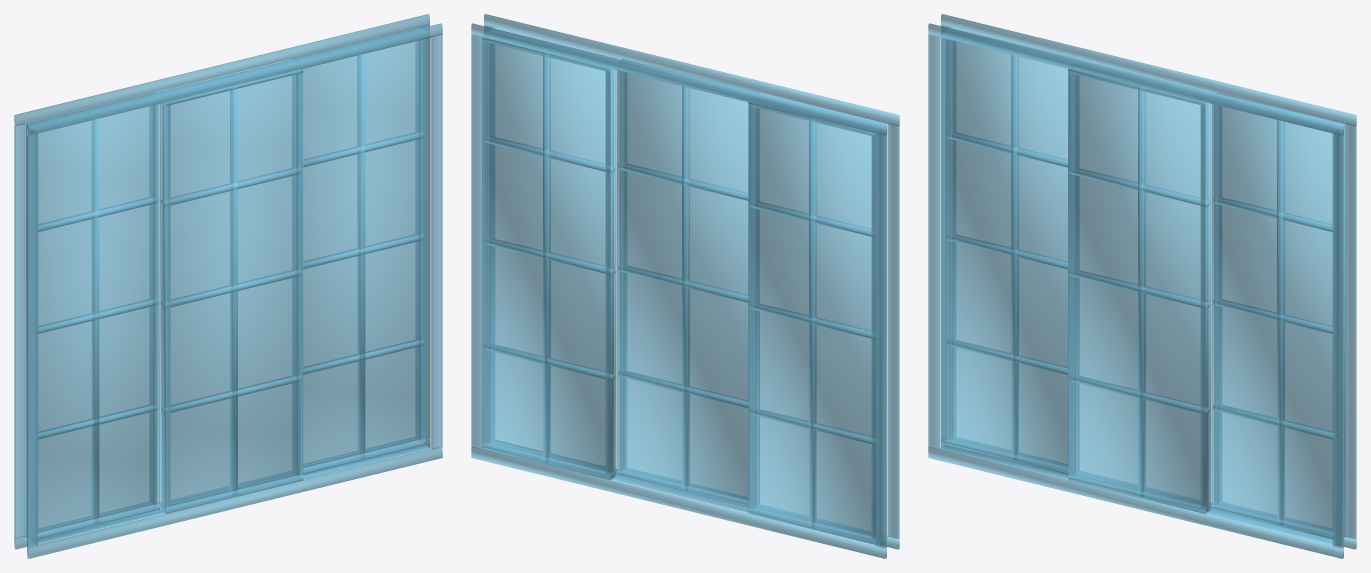
The model's file is glasswall_colored.glb.
The picture shows the model from 3 angles, left to right: view 1: azimuth 30°, elevation 25°; view 2: azimuth 150°, elevation 25°; view 3: azimuth 330°, elevation 25°; orthographic projection.
Parts seen in each view (by area): view 1: Object008, Object004, Object006, SlidingWindow001, Object007, Object005, Object003, Rectangle012, Rectangle008, Rectangle004, Rectangle009, Rectangle010 (+7 smaller); view 2: Object004, Object008, Object006, SlidingWindow001, Object003, Object005, Object007, Rectangle004, Rectangle012, Rectangle008, Rectangle009, Rectangle010 (+7 smaller); view 3: Object008, Object006, Object004, SlidingWindow001, Object007, Object003, Object005, Rectangle012, Rectangle008, Rectangle004, Rectangle010, Rectangle009 (+7 smaller).
Boxes of the visible parts, left/top/right/bottom form: Object008: left=162, top=69, right=300, bottom=511; Object004: left=303, top=40, right=422, bottom=471; Object006: left=37, top=105, right=156, bottom=536; SlidingWindow001: left=14, top=14, right=442, bottom=558; Object007: left=160, top=68, right=303, bottom=513; Object005: left=26, top=93, right=159, bottom=538; Object003: left=294, top=28, right=425, bottom=474; Rectangle012: left=230, top=85, right=237, bottom=495; Rectangle008: left=92, top=118, right=99, bottom=523; Rectangle004: left=358, top=53, right=365, bottom=458; Rectangle009: left=161, top=270, right=301, bottom=308; Rectangle010: left=161, top=168, right=301, bottom=206; Object004: left=485, top=38, right=613, bottom=477; Object008: left=619, top=71, right=748, bottom=504; Object006: left=751, top=103, right=875, bottom=541; SlidingWindow001: left=471, top=14, right=899, bottom=558; Object003: left=482, top=37, right=616, bottom=479; Object005: left=748, top=101, right=876, bottom=544; Object007: left=616, top=59, right=759, bottom=507; Rectangle004: left=543, top=52, right=550, bottom=462; Rectangle012: left=682, top=85, right=689, bottom=490; Rectangle008: left=809, top=117, right=815, bottom=527; Rectangle009: left=618, top=265, right=748, bottom=302; Rectangle010: left=618, top=163, right=748, bottom=200; Object008: left=1070, top=69, right=1208, bottom=511; Object006: left=948, top=40, right=1068, bottom=471; Object004: left=1214, top=104, right=1333, bottom=536; SlidingWindow001: left=928, top=14, right=1356, bottom=558; Object007: left=1068, top=68, right=1211, bottom=513; Object003: left=1211, top=93, right=1345, bottom=538; Object005: left=945, top=28, right=1079, bottom=474; Rectangle012: left=1138, top=86, right=1145, bottom=496; Rectangle008: left=1011, top=54, right=1018, bottom=459; Rectangle004: left=1277, top=119, right=1284, bottom=524; Rectangle010: left=1069, top=168, right=1209, bottom=206; Rectangle009: left=1069, top=270, right=1209, bottom=308.
Size of the model in its own units: 84 by 84 by 5.
